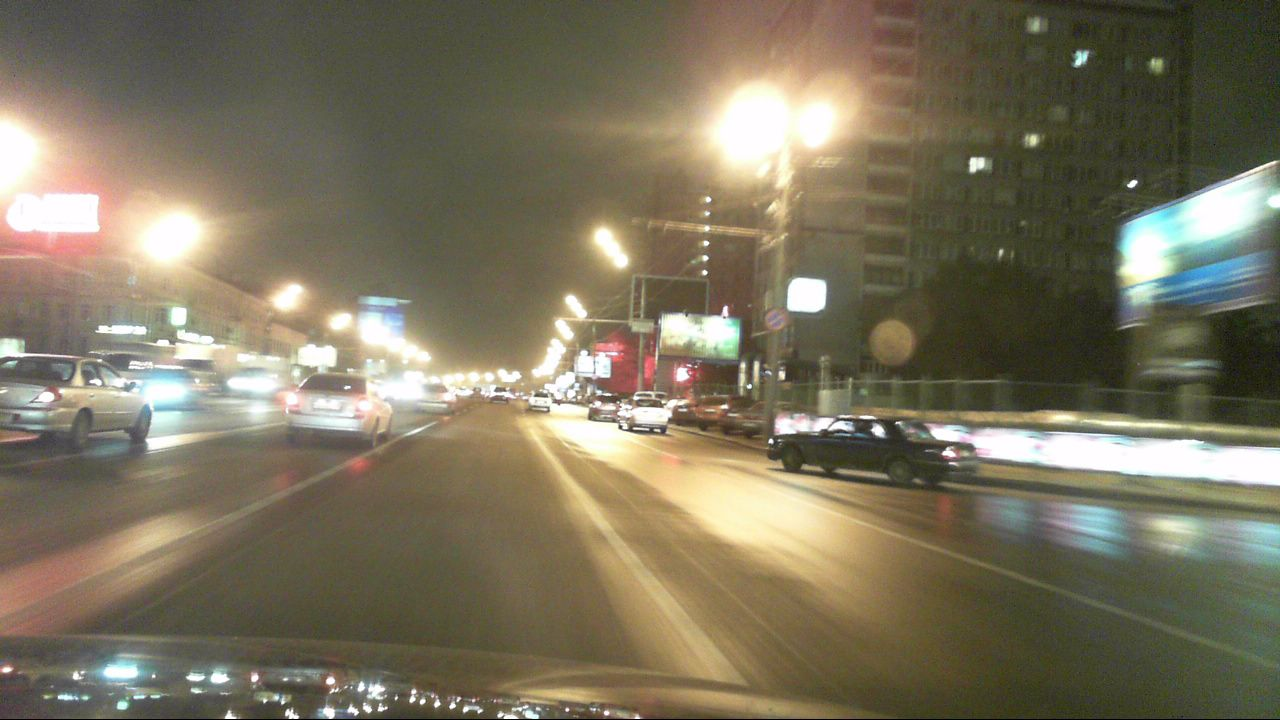No Parking: (763, 308, 787, 330)
